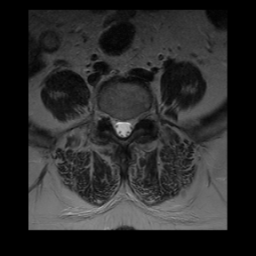CCS_normal: (119, 113, 126, 144)
LFS_normal: (133, 108, 142, 129)
LLS_normal: (127, 112, 133, 138)
RFS_normal: (104, 106, 112, 126)
RLS_normal: (112, 111, 119, 138)
